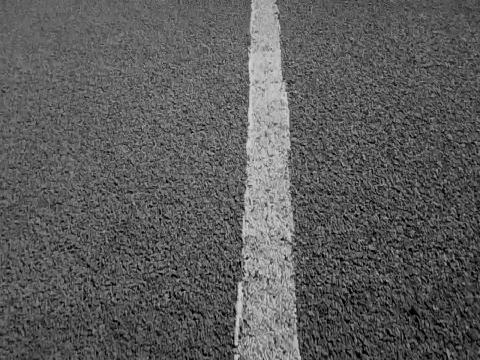Lines: (233, 0, 300, 360)
